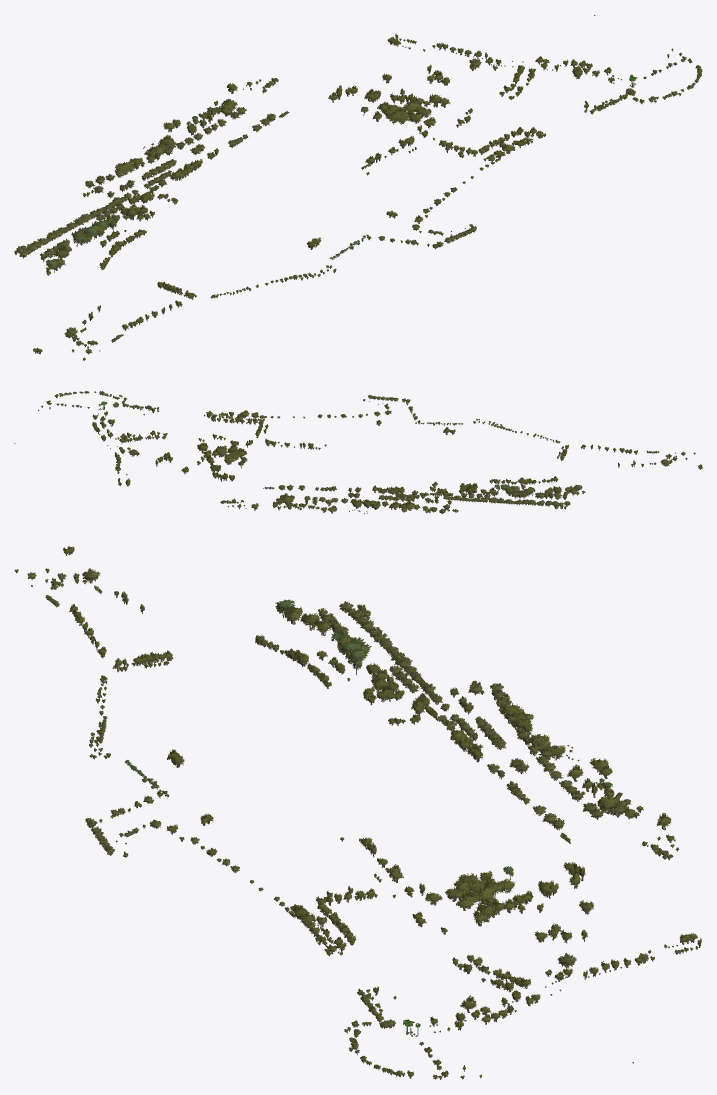
The picture shows the model from 3 angles, top to bottom: view 1: azimuth 30°, elevation 25°; view 2: azimuth 150°, elevation 25°; view 3: azimuth 270°, elevation 25°; orthographic projection. The views are drawn at different scales.
Parts seen in each view (by area): view 1: island_tree_01 street foliage, jacaranda_tree street foliage, tree_small_02 street foliage; view 2: island_tree_01 street foliage, jacaranda_tree street foliage, tree_small_02 street foliage; view 3: island_tree_01 street foliage, jacaranda_tree street foliage, tree_small_02 street foliage.
Part boxes in pixels (x1,y1,x2,y2): island_tree_01 street foliage: (33,15,702,360); jacaranda_tree street foliage: (14,58,698,354); tree_small_02 street foliage: (46,74,701,336); island_tree_01 street foliage: (14,391,702,513); jacaranda_tree street foliage: (48,391,685,513); tree_small_02 street foliage: (66,391,647,513); island_tree_01 street foliage: (14,546,701,1079); jacaranda_tree street foliage: (27,568,673,1079); tree_small_02 street foliage: (54,599,619,1073).
Size of the model in its own units: 1186 by 20.99 by 651.
Materials: 4 (4 with a texture image).
